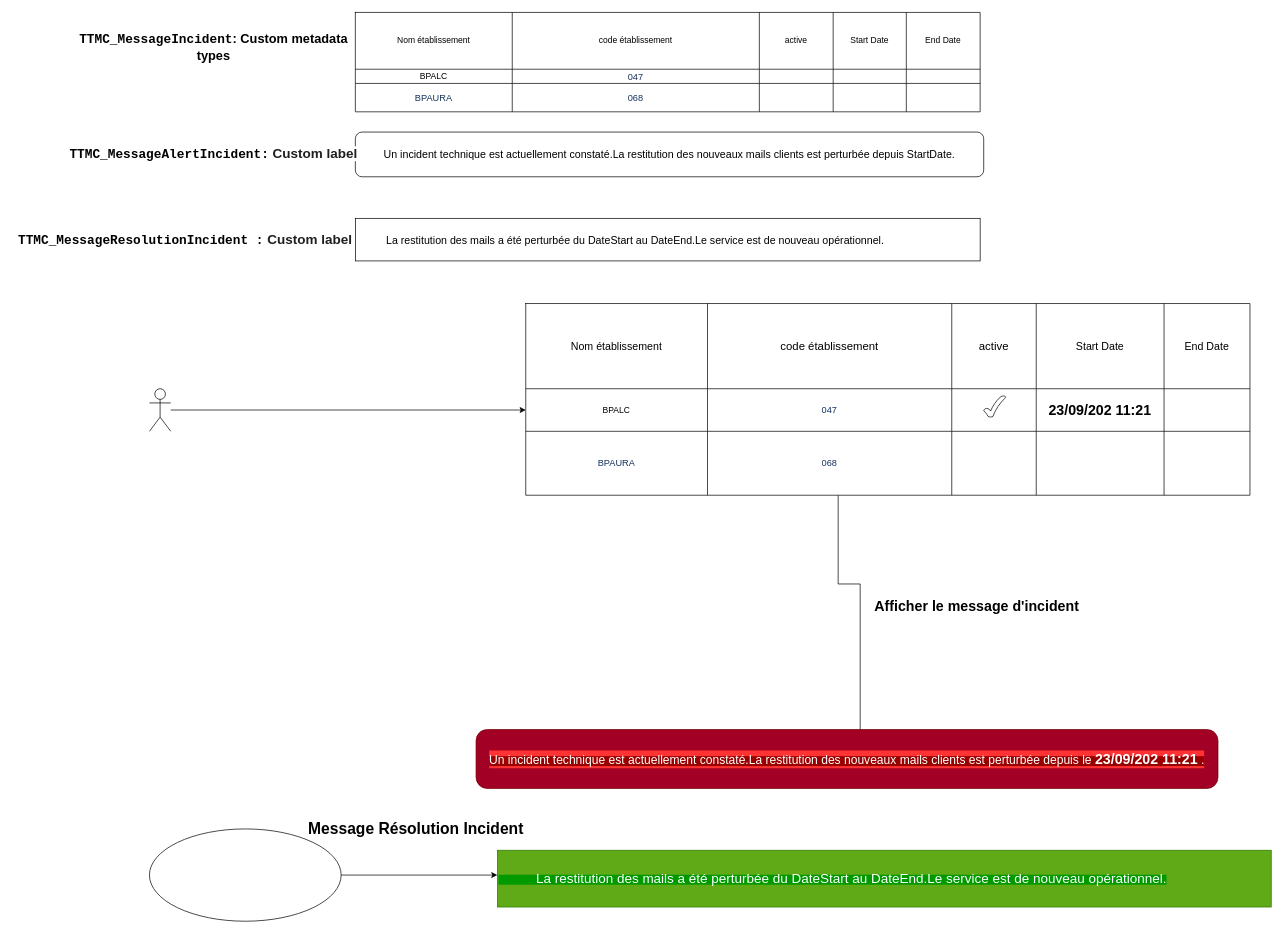
Some shapes in this 1284 by 934 pixel diagram are drawn without their labels. Here are the shapes that lost their labels. From the top down, the box of each, then its label:
(149, 388, 171, 431): Incident pour BPALC le 23/09/2024 à 11:21
(149, 828, 341, 921): Incident Résolu
